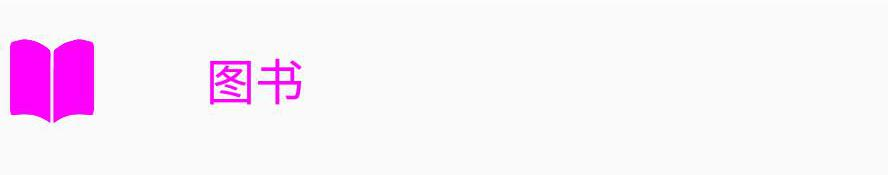CheckedTextView: (1, 1, 887, 174)
